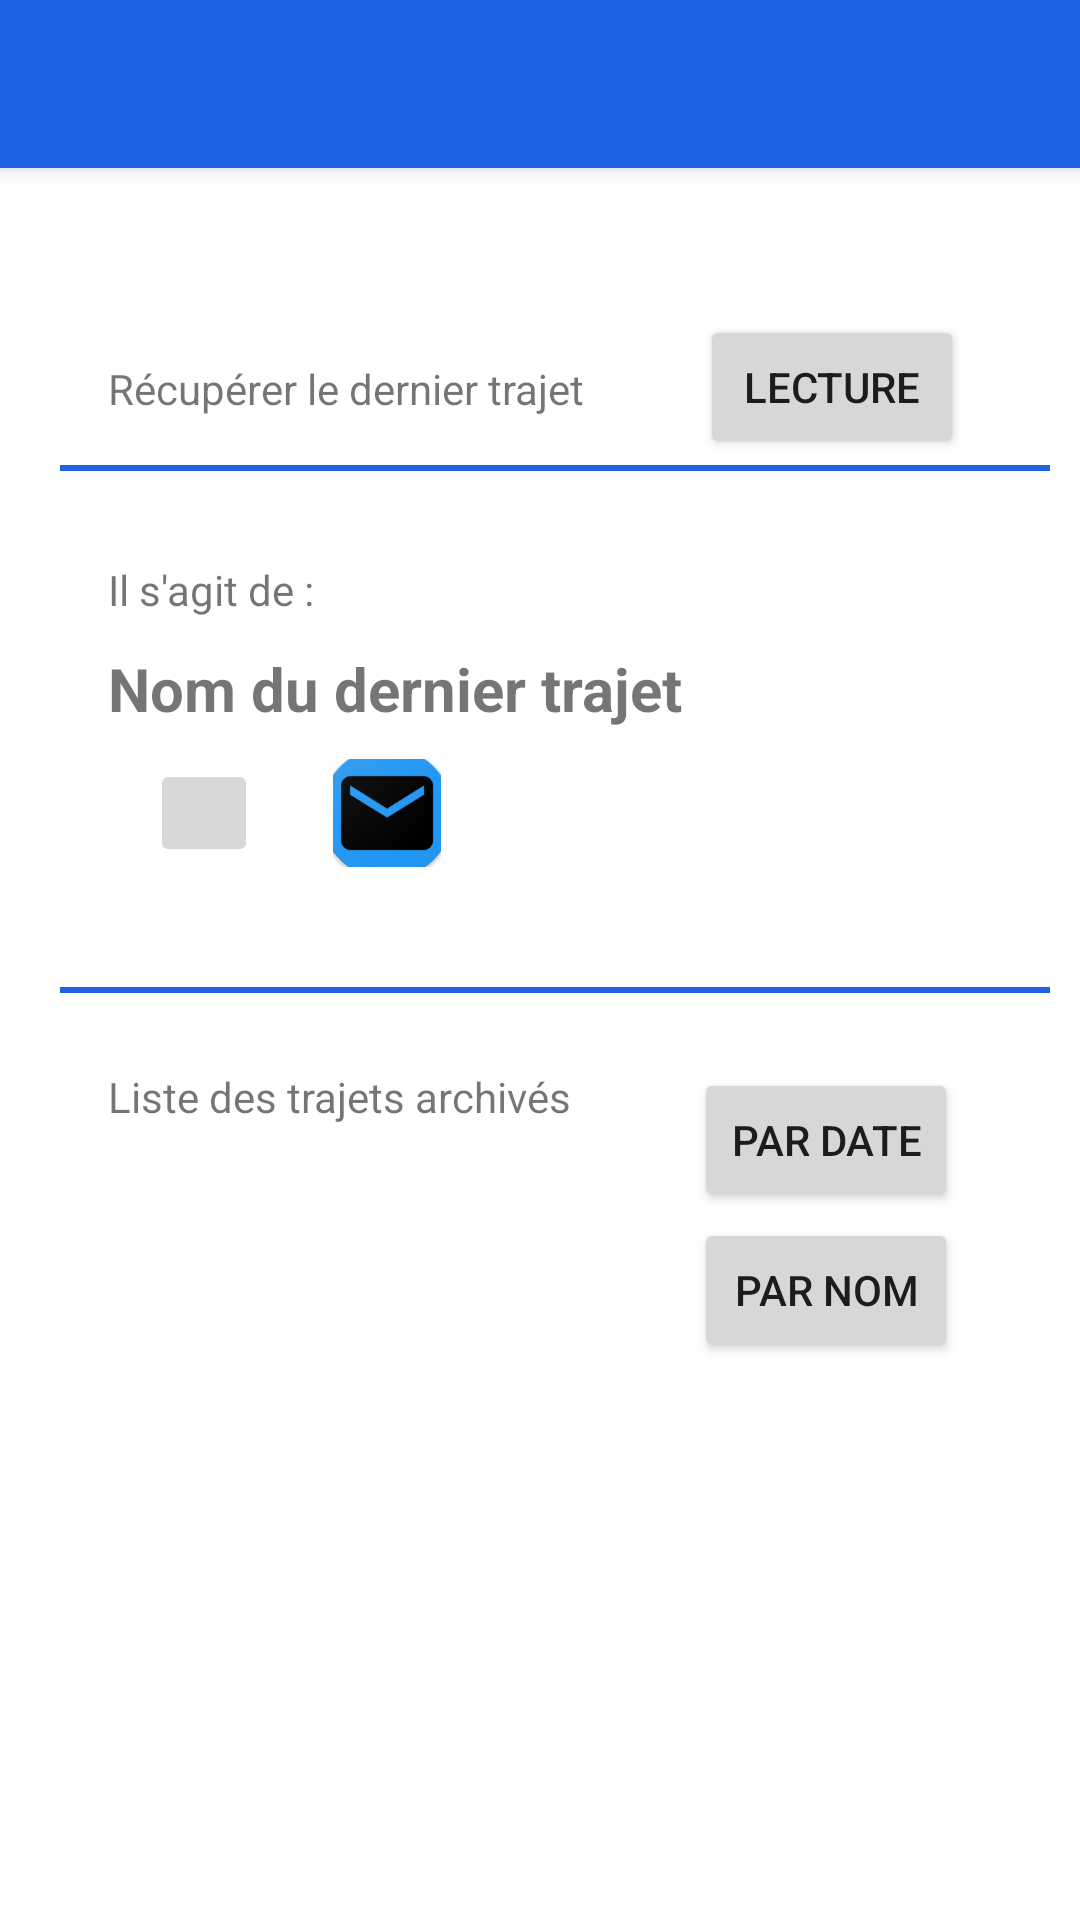

Where to tap for icons on this 1080 × 1920 app screen, as (x=x, y=y):
Envoi par e-mail: (x=387, y=813)
